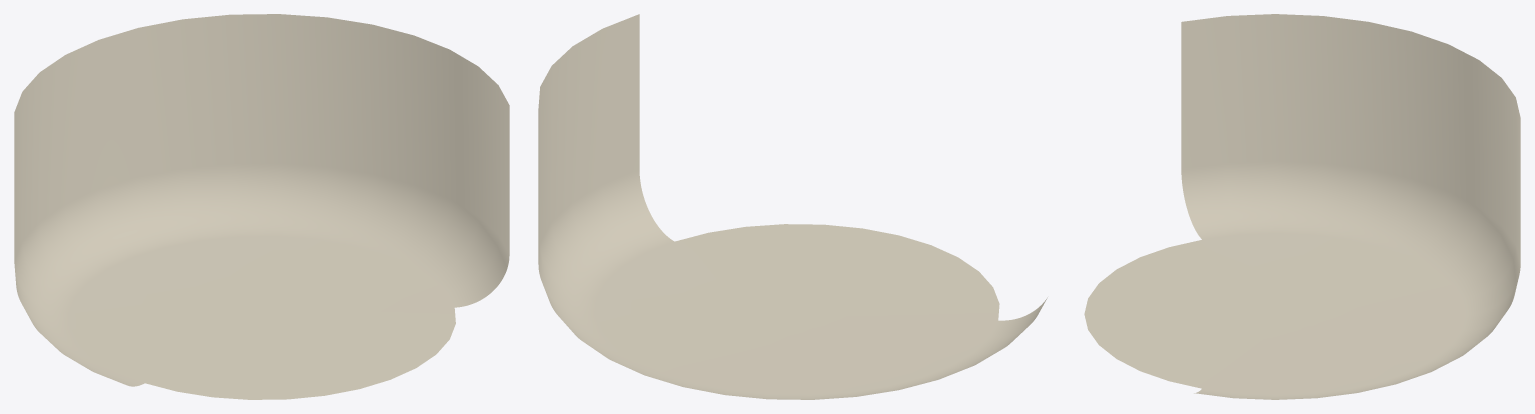
Rendered from limbo.glb.
3 renders of one model, left to right at view 1: azimuth 30°, elevation 25°; view 2: azimuth 150°, elevation 25°; view 3: azimuth 270°, elevation 25°, orthographic. The views are drawn at different scales.
Parts seen in each view (by area): view 1: iso_limbo-001; view 2: iso_limbo-001; view 3: iso_limbo-001.
Part boxes in pixels (left/top/right/bottom): iso_limbo-001: left=14, top=14, right=509, bottom=399; iso_limbo-001: left=538, top=14, right=1047, bottom=399; iso_limbo-001: left=1084, top=14, right=1520, bottom=399.
Bounding box in the file's own units: 180 × 79.56 × 160.
